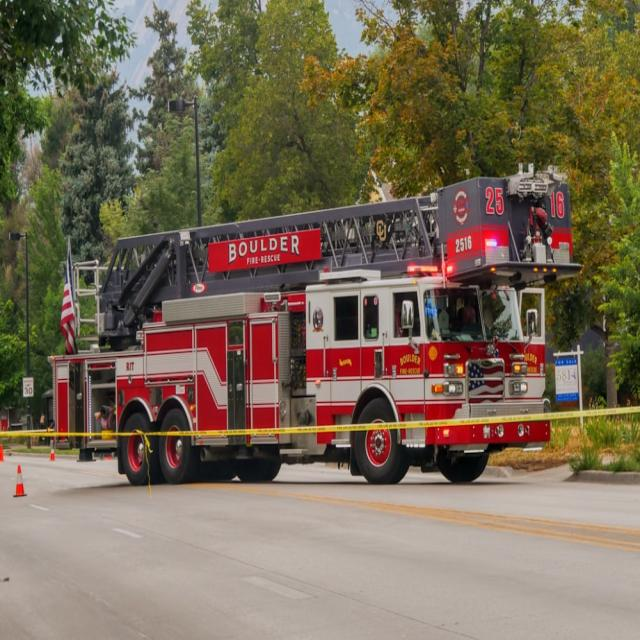emergency: (50, 165, 580, 484)
